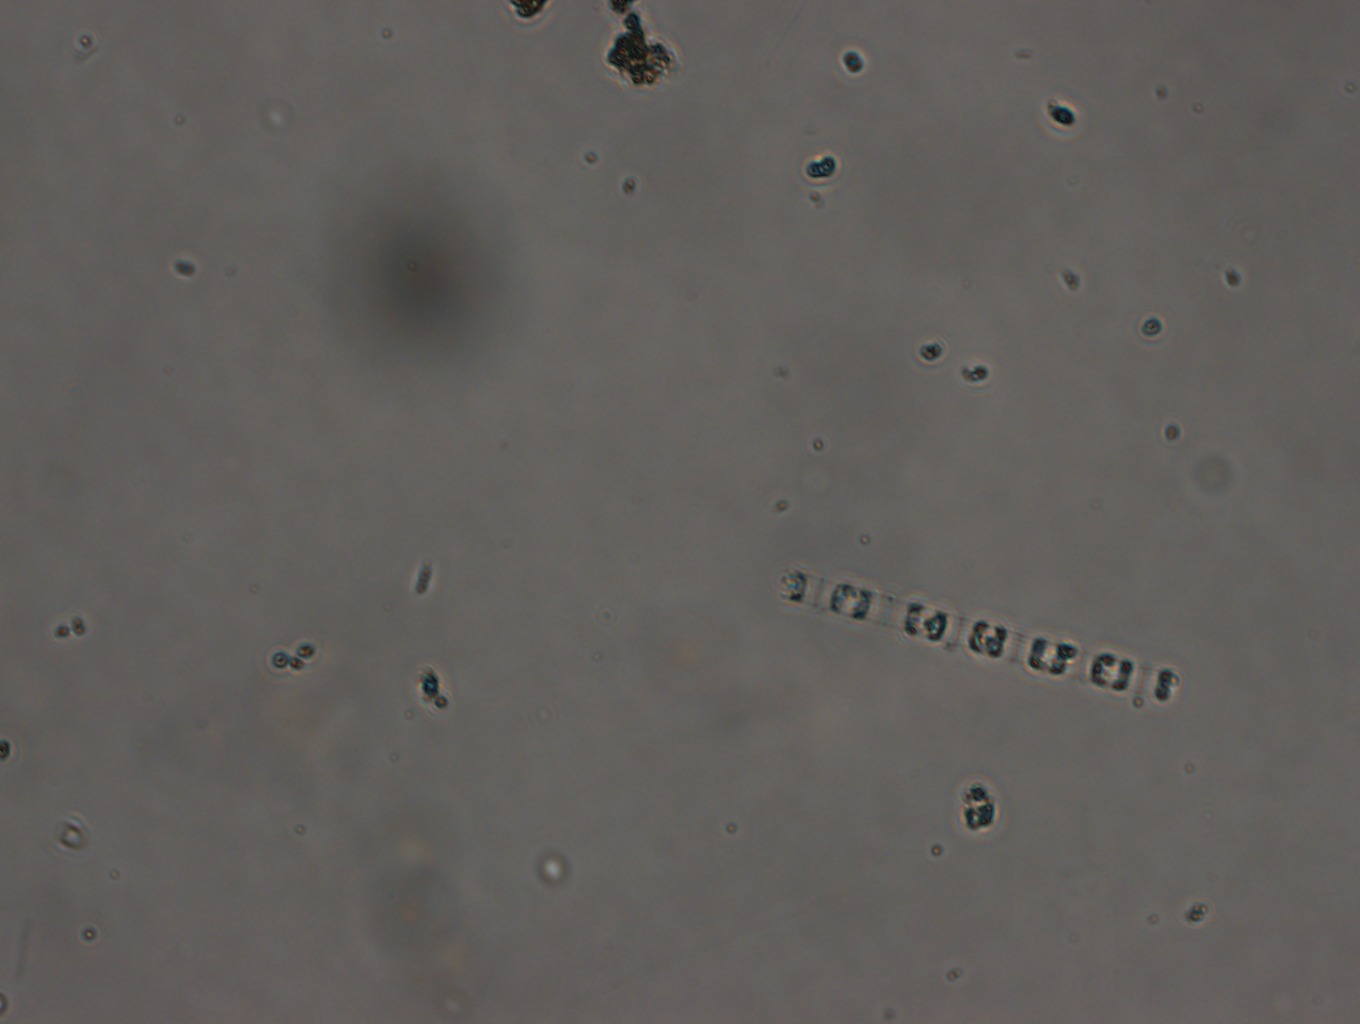skeletonema: (774, 564, 1178, 710)
